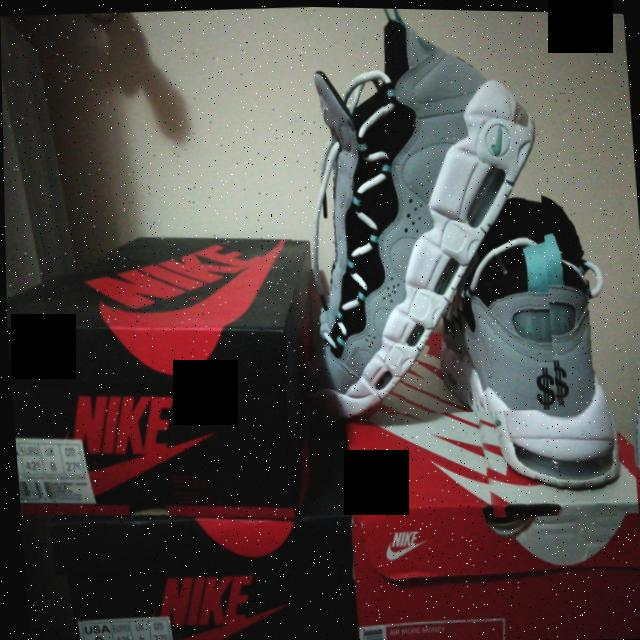shoe: (257, 4, 555, 421), (445, 175, 637, 519)
